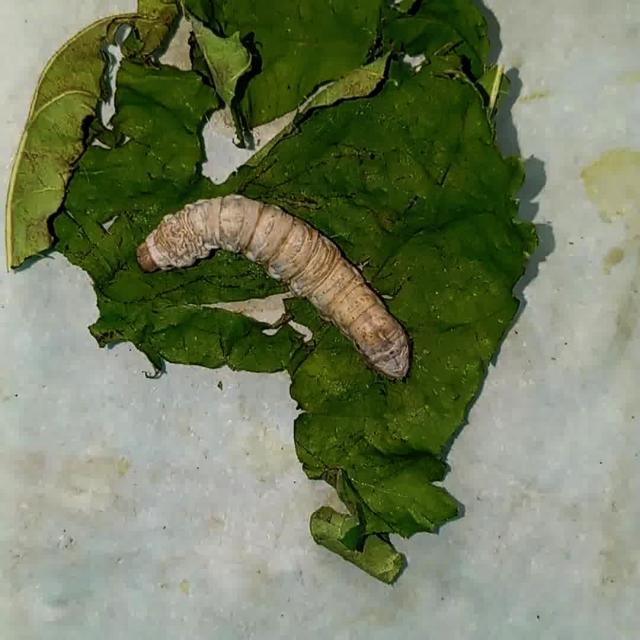Grasserie: (130, 184, 416, 385)
